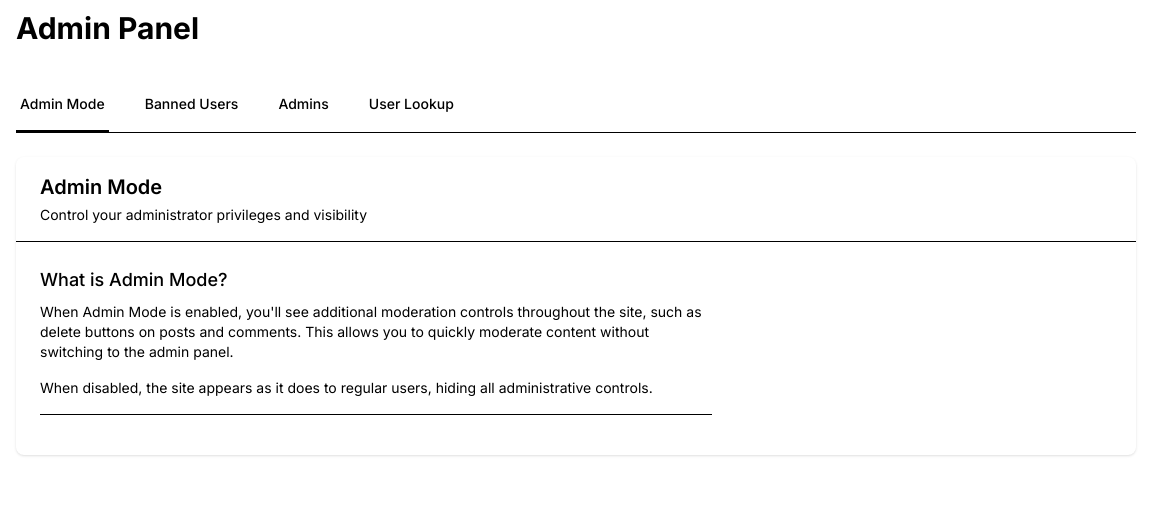
Test: AdminPage › Banned Users Tab › displays list of banned users
The image size is (1153, 509).
Click on Banned Users tab
Click the button "Banned Users" at {"x": 192, "y": 105}, box [141, 78, 242, 132]
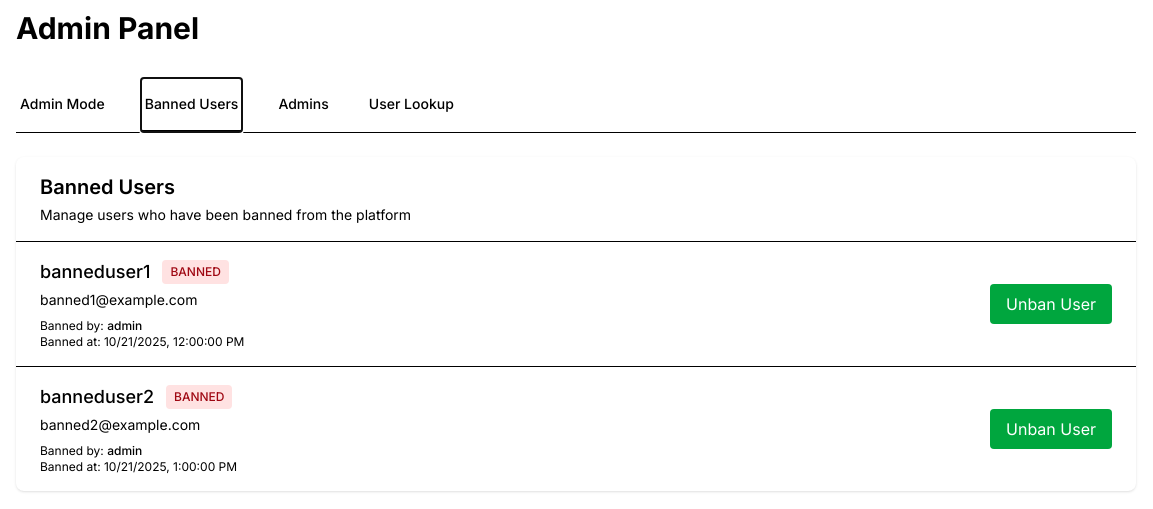
Expected: the heading "banneduser1" is shown, [40, 258, 150, 286]
Expected: the heading "banneduser2" is shown, [40, 383, 154, 411]
Expected: the text "banned1@example.com" is shown, [40, 291, 198, 308]
